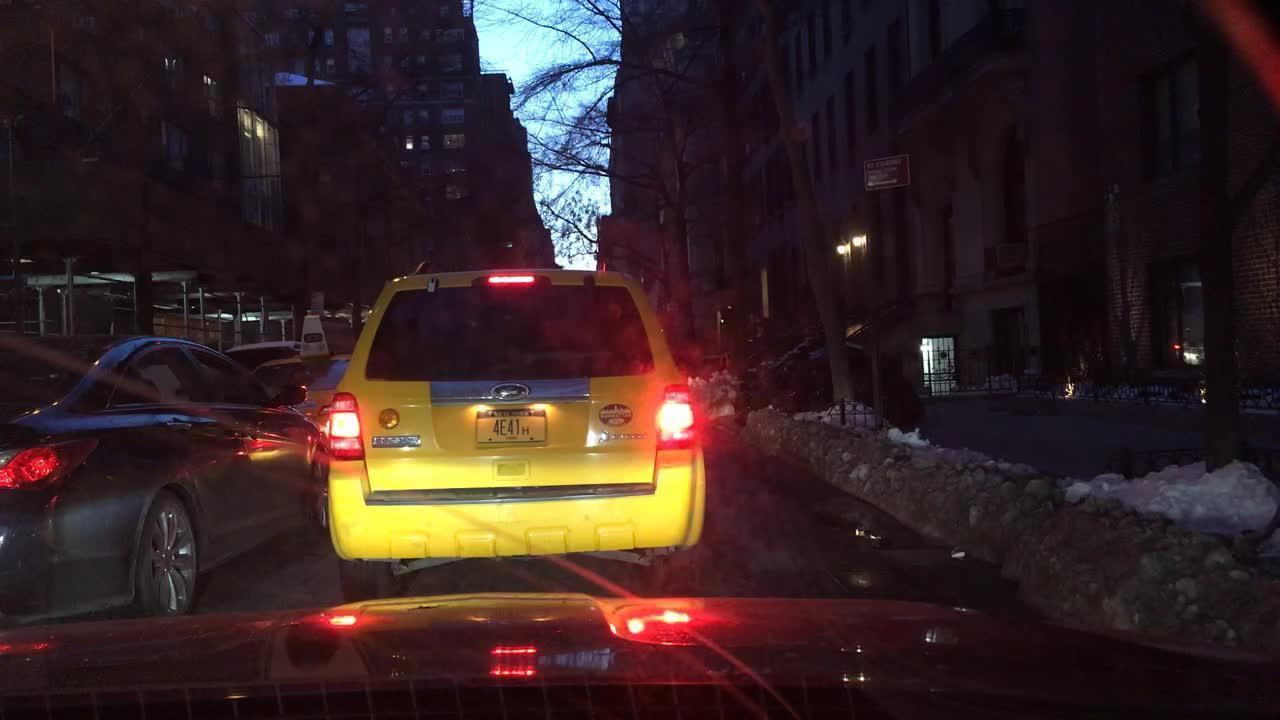ford: (477, 377, 546, 404)
